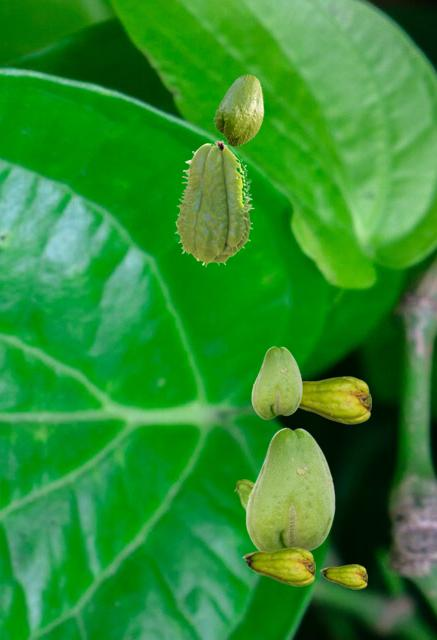sayote: (245, 427, 334, 550), (174, 140, 253, 266), (213, 74, 263, 146), (251, 346, 301, 418), (299, 376, 370, 423), (242, 547, 314, 585), (320, 564, 366, 588), (234, 479, 254, 510)
